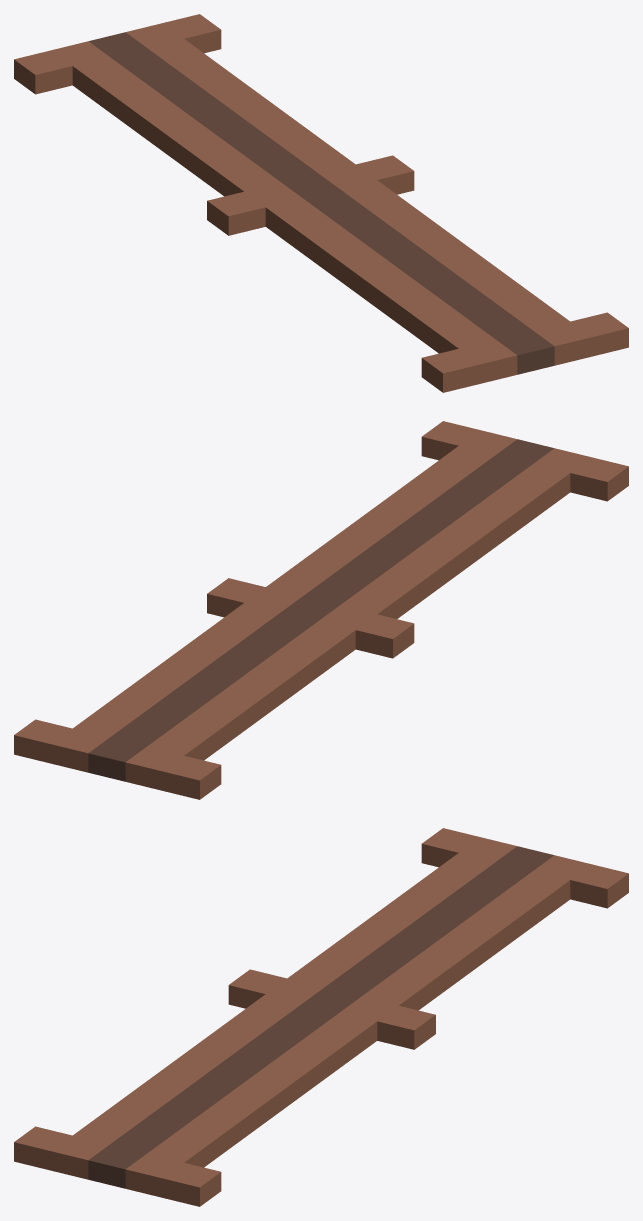
File: guia_sierra_horizontal.obj
3 renders of one model, top to bottom at view 1: azimuth 30°, elevation 25°; view 2: azimuth 150°, elevation 25°; view 3: azimuth 330°, elevation 25°, orthographic.
Bounding box in the file's own units: 1 × 0.1 × 4.
Materials: 1 (1 with a texture image).
